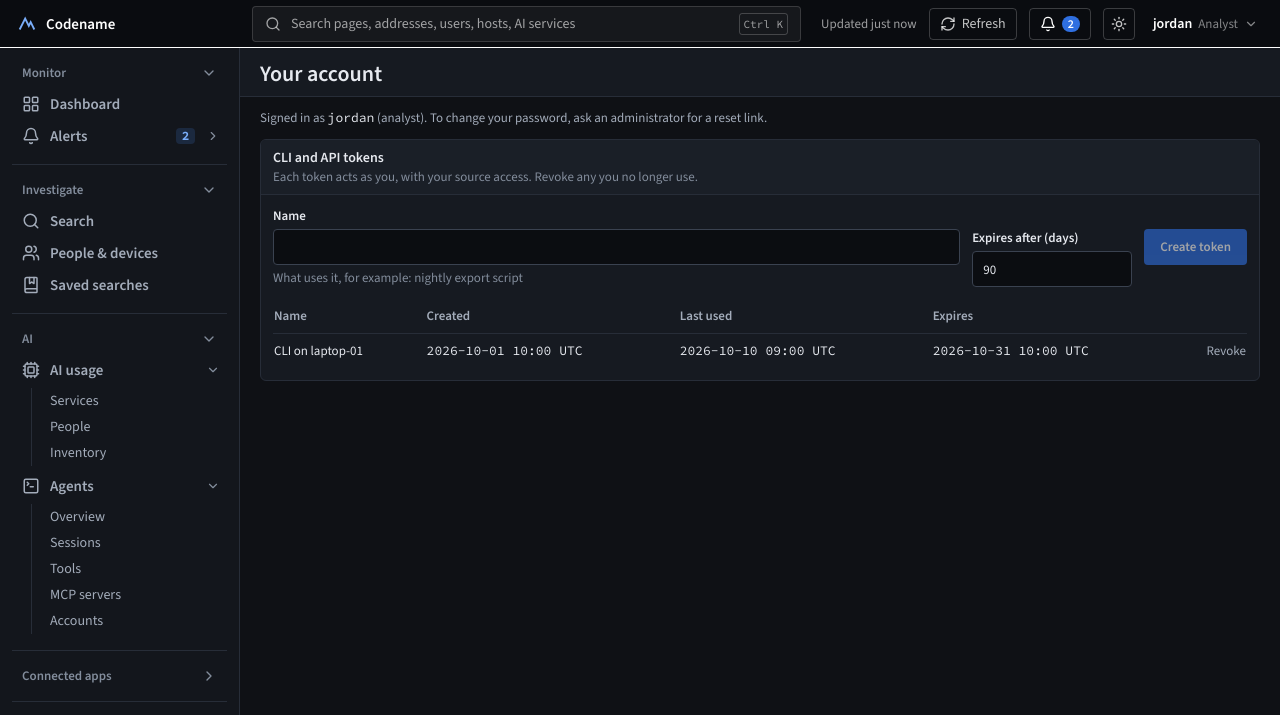
Test case: Your account › creates a token, shows the secret once, and revokes
Type "export script" into the field labelled "Name" at (617, 247), box [273,229,960,265]
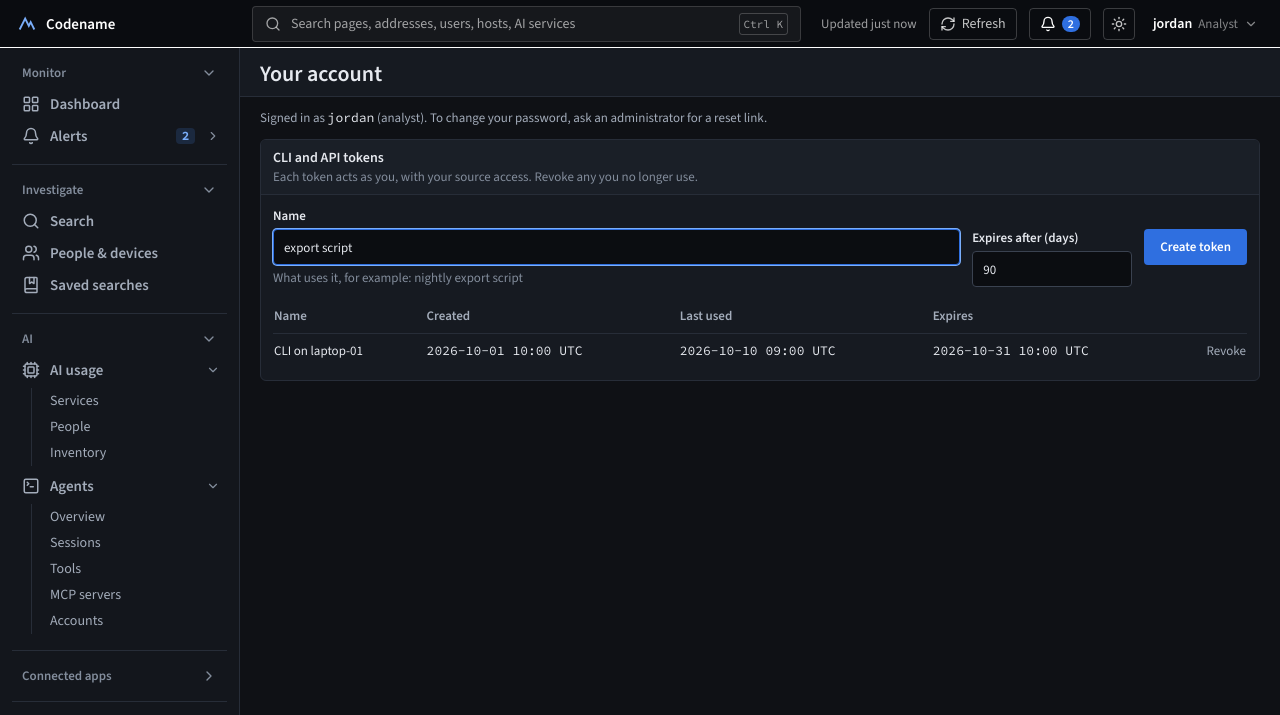
Click the button "Create token" at (1196, 247), box [1144,229,1247,265]
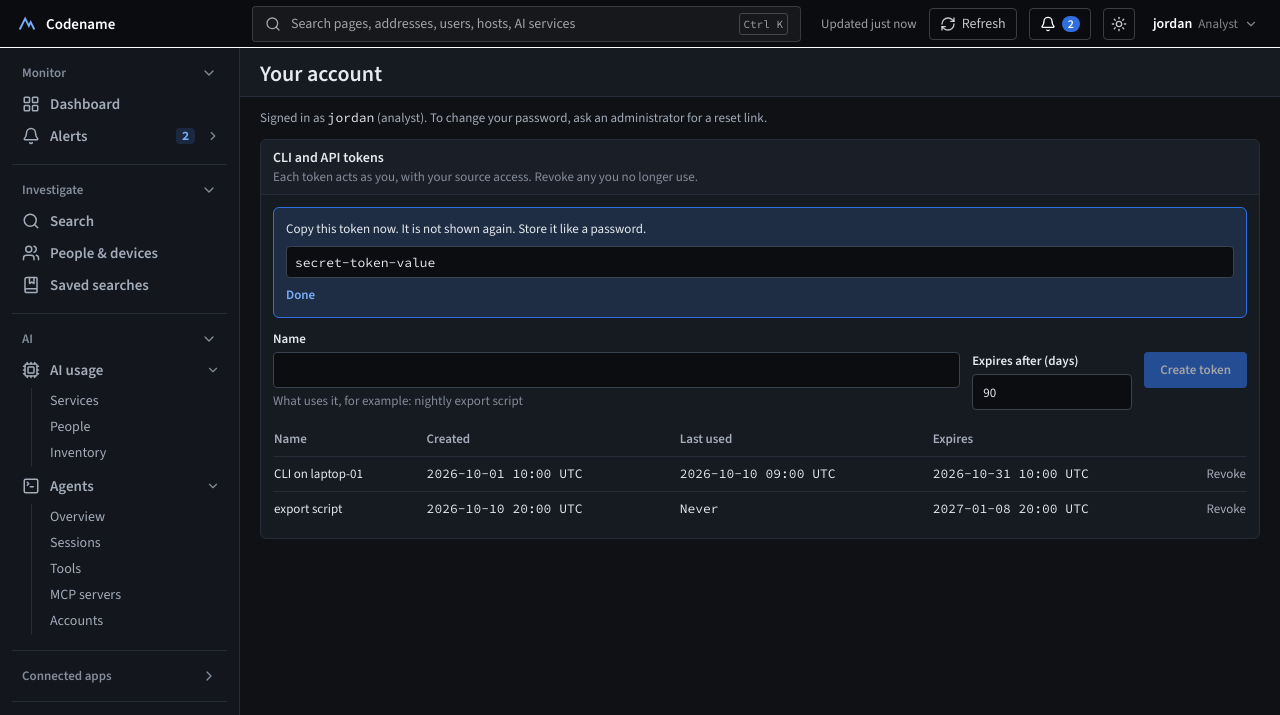
Expected: the field named "New token" holds "secret-token-value", [286,246,1234,278]
Click the button "Done" at (301, 295), box [286,286,315,304]
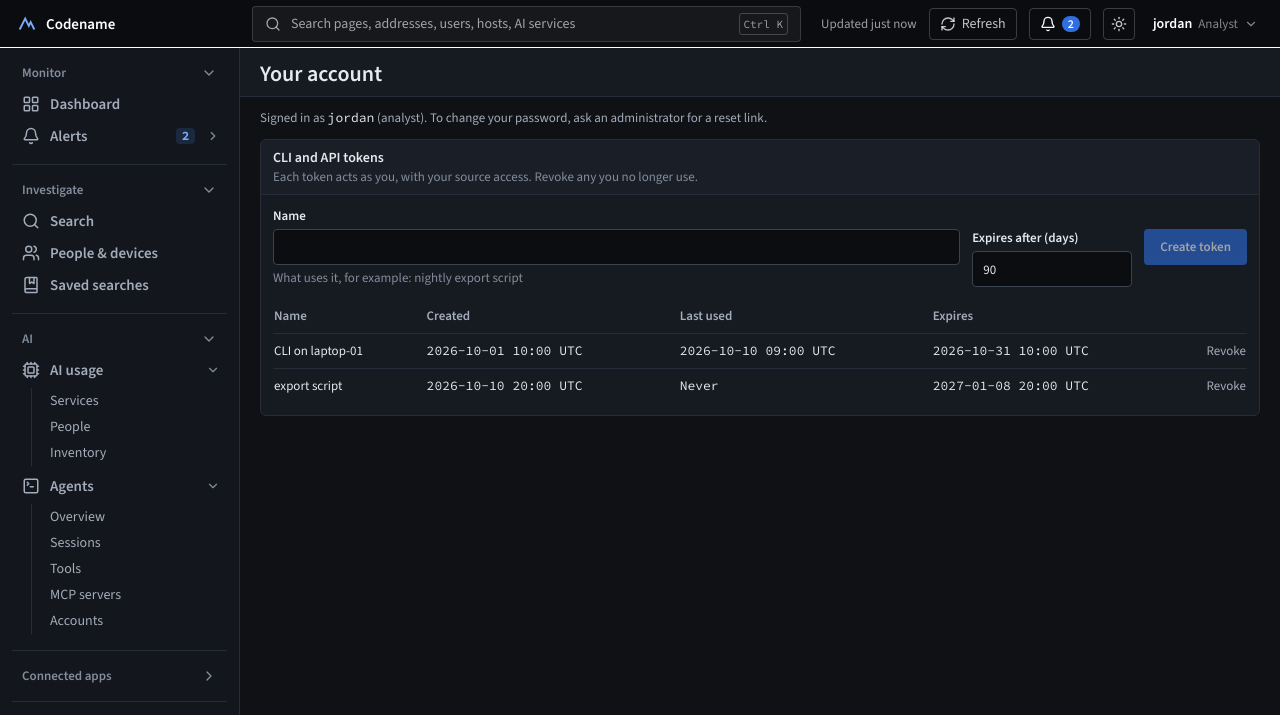
Click the button with aria-label "Revoke CLI on laptop-01" at (1226, 351), box [1206,342,1246,360]
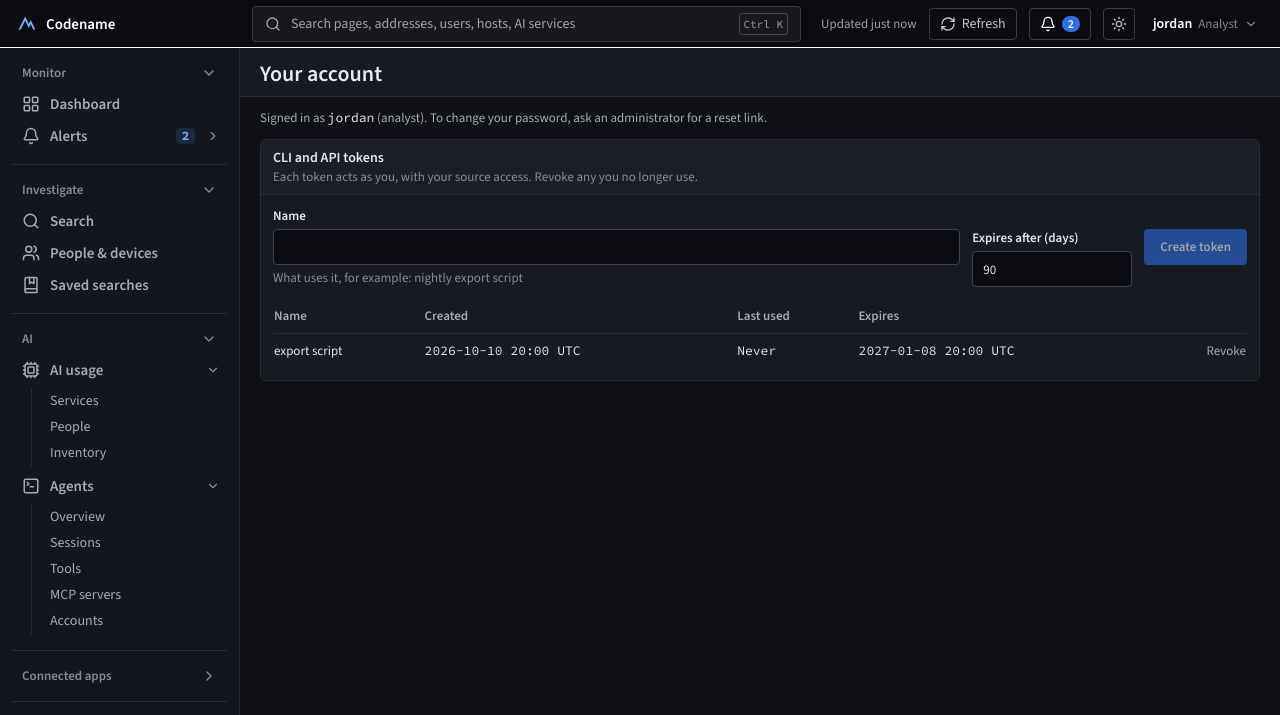
Expected: the text "CLI on laptop-01" is gone
